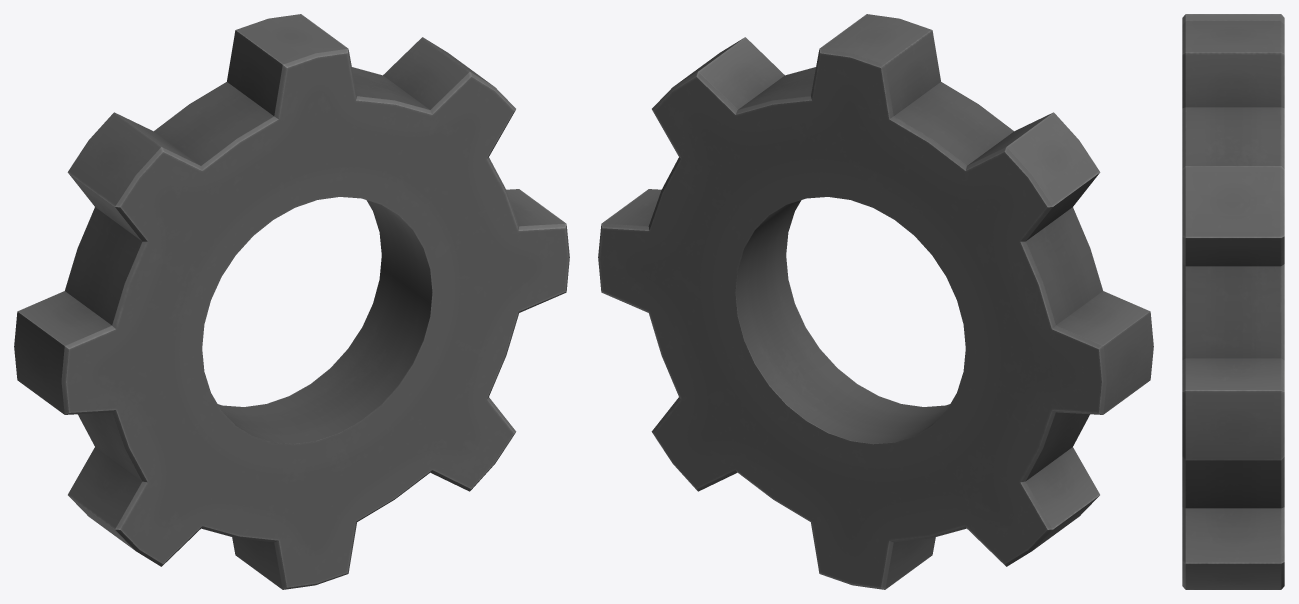
Rendered from Gear.FBX.
3 views of the same model, side by side, from view 1: azimuth 30°, elevation 25°; view 2: azimuth 150°, elevation 25°; view 3: azimuth 270°, elevation 25° (orthographic).
Parts seen in each view (by area): view 1: Gear; view 2: Gear; view 3: Gear.
Part boxes in pixels (box(x1,y1,x2,y2)): Gear: box(14, 14, 569, 589); Gear: box(598, 14, 1153, 589); Gear: box(1182, 14, 1284, 589).
Size of the model in its own units: 81 by 81 by 14.
